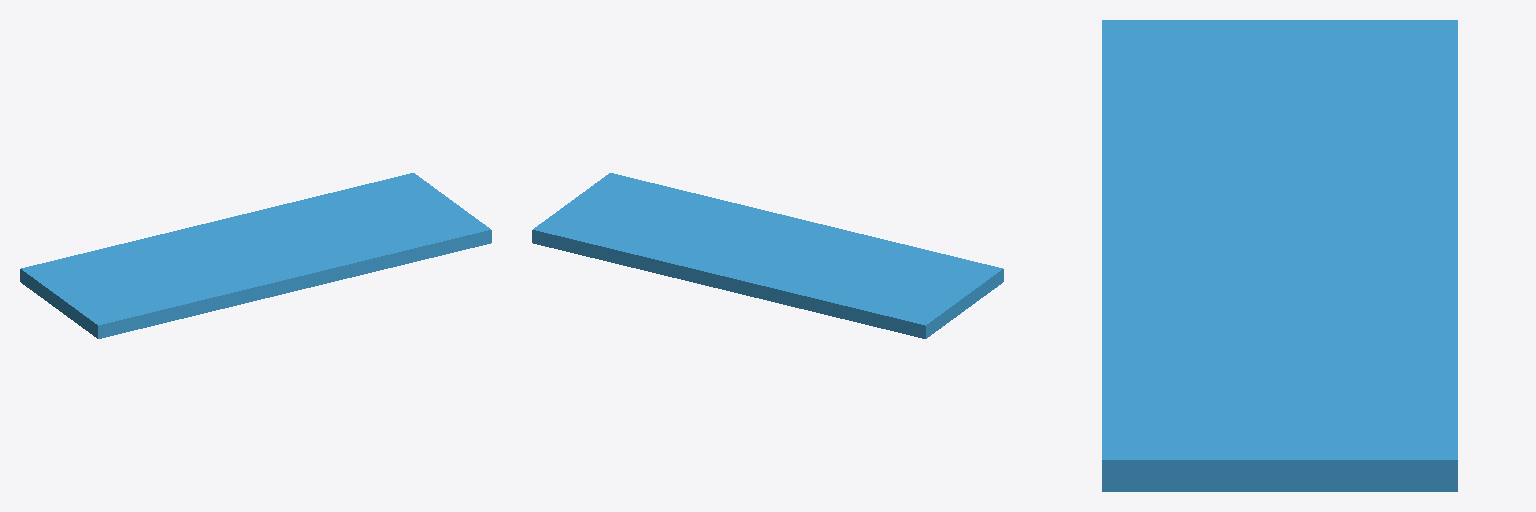
The robot description file, URDF, robot "cylinder_47":
    
    <robot name="cylinder_47">
        <link name="cylinder_47">    
            <fem>
                <origin rpy="0.0 0.0 0.0" xyz="0 0 0" />
                <density value="100" />
                <youngs value="10979"/>
                <poissons value="0.3" />
                <damping value="0.0" />
                <attachDistance value="0.01" />
                <tetmesh filename="[local-path]/sim_data/Custom/Custom_mesh/multi_cylinder_10kPa/cylinder_47.tet" />
                <scale value="0.5"/>
            </fem>
        </link>

        <link name="fix_frame">
            <visual>
                <origin xyz="0.0 0.0 10.079093452039848"/>
                <geometry>
                    <box size="0.15 0.05138442494758145 0.005"/>
                </geometry>
            </visual>
            <collision>
                <origin xyz="0.0 0.0 0.07909345203984691"/>
                <geometry>
                    <box size="0.15 0.05138442494758145 0.005"/>
                </geometry>
            </collision>
            <inertial>
                <mass value="500000"/>
                <inertia ixx="0.05" ixy="0.0" ixz="0.0" iyy="0.05" iyz="0.0" izz="0.05"/>
            </inertial>
        </link>
        
        <joint name = "attach" type = "fixed">
            <origin xyz = "0.0 0.0 0.0" rpy = "0 0 0"/>
            <parent link ="cylinder_47"/>
            <child link = "fix_frame"/>
        </joint>  




    </robot>
    

--- Facts derived from the render (not from the file) ---
Views: 3 orthographic renders of the robot side by side, from view 1: azimuth 30°, elevation 25°; view 2: azimuth 150°, elevation 25°; view 3: azimuth 270°, elevation 25°.
Model cylinder_47 with 2 links and 1 joints (1 fixed), rooted at cylinder_47, posed every joint at zero.
Links seen in each view (by area): view 1: fix_frame; view 2: fix_frame; view 3: fix_frame.
Boxes of the visible links, x1,y1,x2,y2 form: fix_frame: (20, 173, 491, 338); fix_frame: (532, 173, 1003, 338); fix_frame: (1102, 20, 1457, 491).
Size in the robot's own frame: 0.15 by 0.0514 by 0.005 metres.
Geometry: primitives only (box / cylinder / sphere), no mesh files.